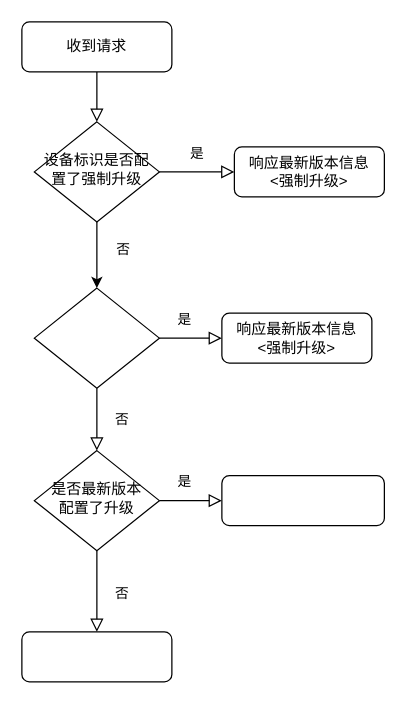
This 406x704 diagram has some shape labels left out. Each missing label, with the centre of its shape:
App版本是否配置了强制升级: [96,337]
响应最新版本信息 是否强制跟随版本配置: [302,500]
响应空信息: [96,656]
